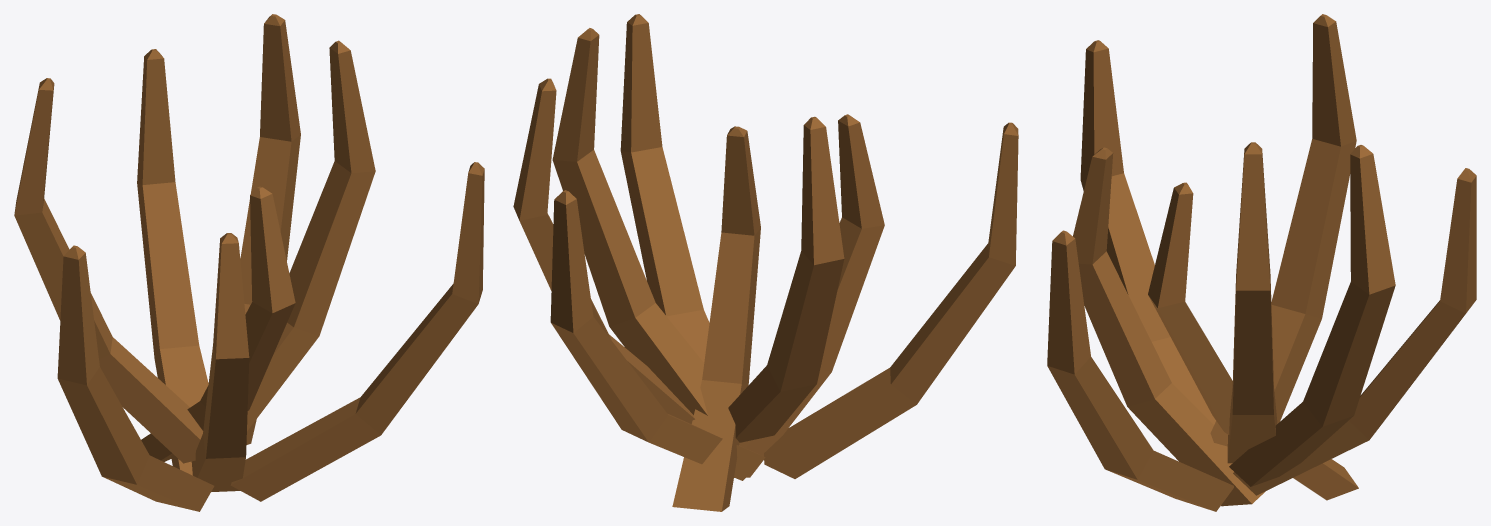
Rendered from Thorns_07.fbx.
3 renders of one model, left to right at view 1: azimuth 30°, elevation 25°; view 2: azimuth 150°, elevation 25°; view 3: azimuth 270°, elevation 25°, orthographic. The views are drawn at different scales.
Parts seen in each view (by area): view 1: Thorns_07; view 2: Thorns_07; view 3: Thorns_07.
Boxes of the visible parts, x1,y1,x2,y2 form: Thorns_07: (14,14,484,511); Thorns_07: (513,14,1018,511); Thorns_07: (1047,14,1476,511).
Size of the model in its own units: 77.92 by 74.85 by 69.4.
